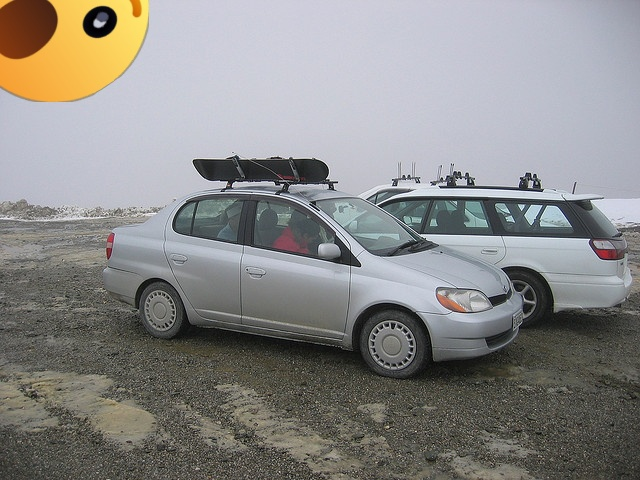wow: (0, 0, 149, 102)
